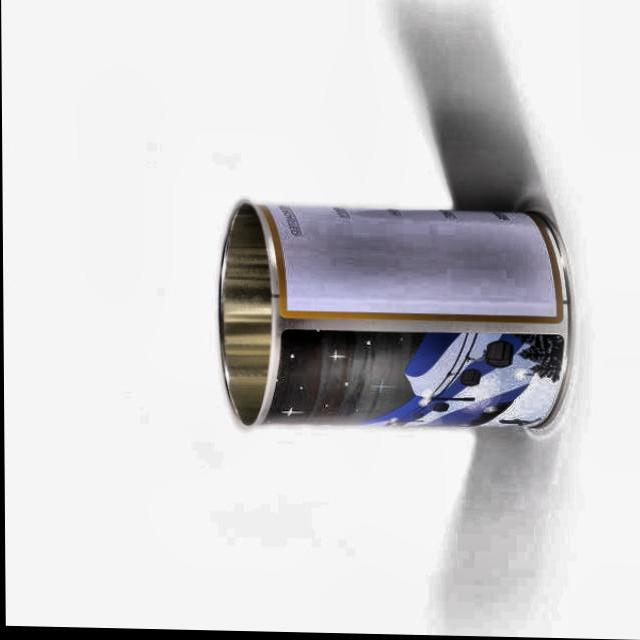litter: (203, 192, 578, 450)
